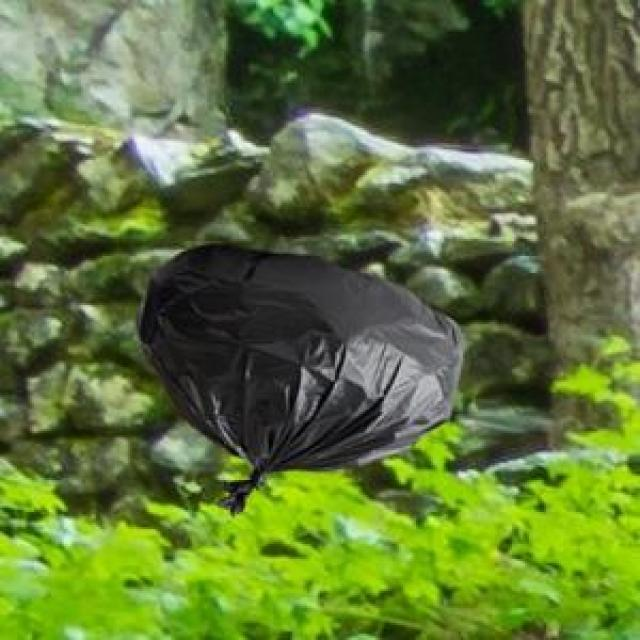waste: (140, 242, 468, 516)
